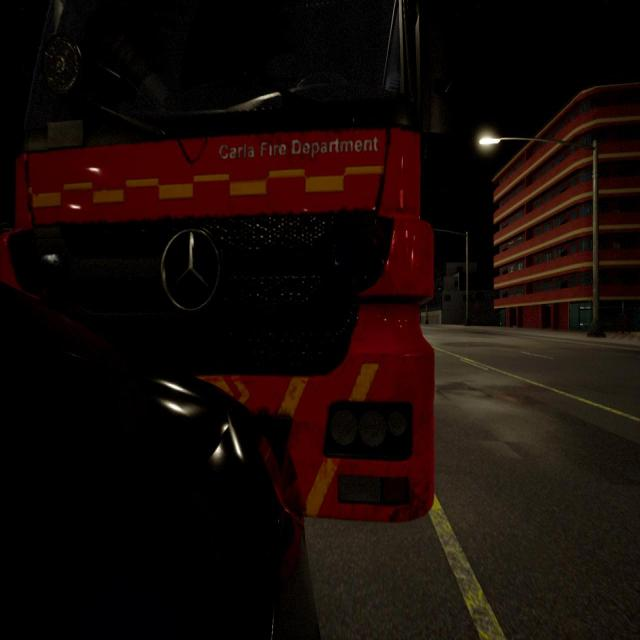Vehicle: (4, 7, 432, 516), (0, 290, 314, 640)
